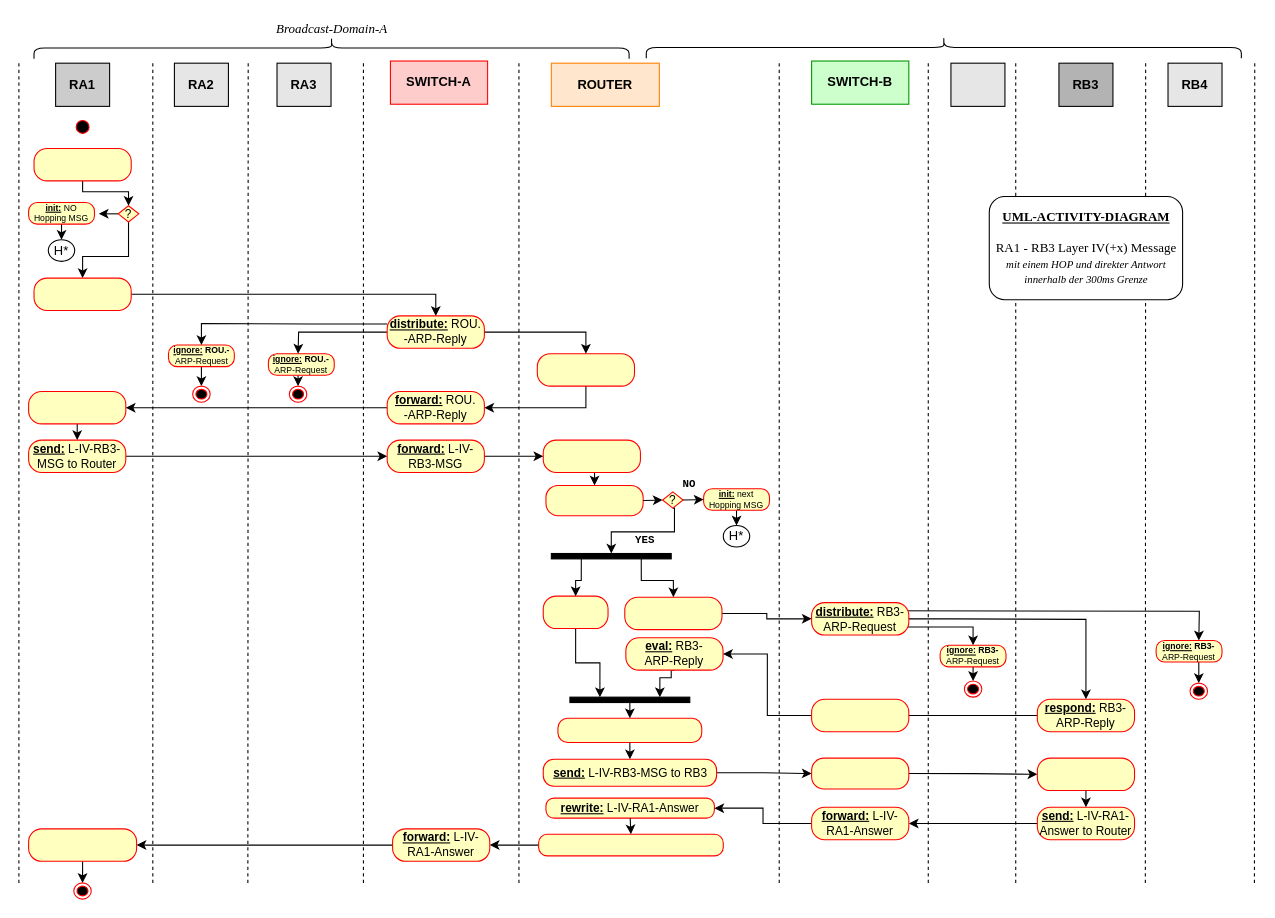
This 1275x918 diagram has some shape labels left out. Here are the shapes that lost their labels. From the top down, the centre of each, then its label:
At [943,47]: "Broadcast-Domain-B".
At [977,84]: "RB2".
At [82,164]: "test: RB3-IP in BC- Domain A".
At [82,293]: "send: ROUter- ARP-Request".
At [585,369]: "respond: ROU.- ARP-Request".
At [77,407]: "eval: ROUter- ARP-Response".
At [591,456]: "eval: L-IV-RB3-MSG to Router".
At [594,500]: "test: RB3-IP in BC- Domain B".
At [575,612]: "store: RA1 -IP".
At [673,613]: "send: RB3 - ARP-Request".
At [629,729]: "rewrite: L-IV- RB3-MSG".
At [860,715]: "forward: RB3- ARP-Reply".
At [860,773]: "forward: L-IV-RB3-MSG to RB3".
At [1085,774]: "eval: L-IV- RB3- Message".
At [82,844]: "eval: L-IV- RA1- Answer from RB3".
At [630,844]: "send: L-IV-RA1-Answer to RA1".
